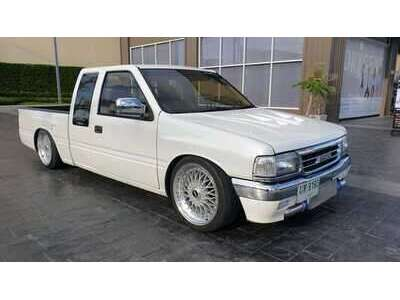pickup: (16, 59, 354, 231)
